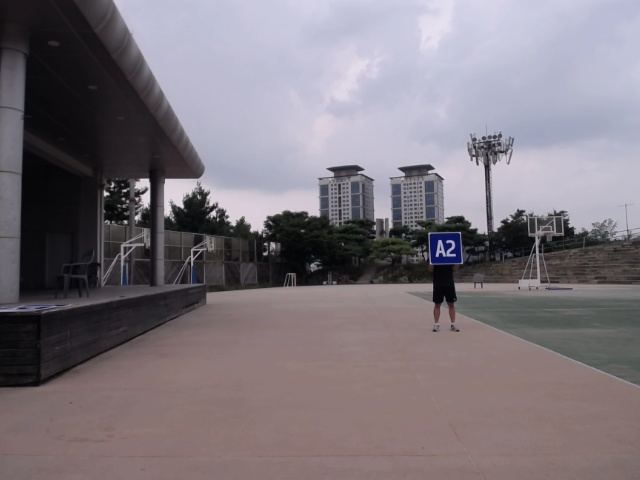delivery_a2: (428, 232, 463, 264)
